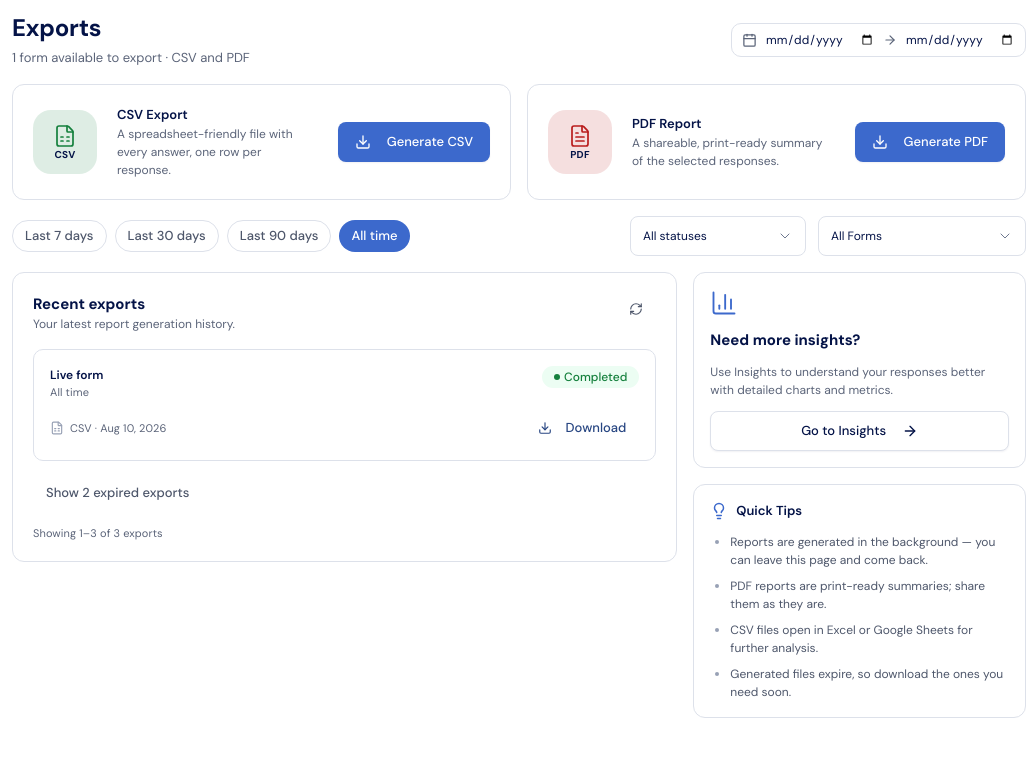
expired exports › are hidden behind a toggle, and the live rows stay visible
This screenshot has width=1036, height=775.
Expected: the text "Old form one" is not shown
Click the button "Show 2 expired exports": [118, 493] box [33,477,202,509]
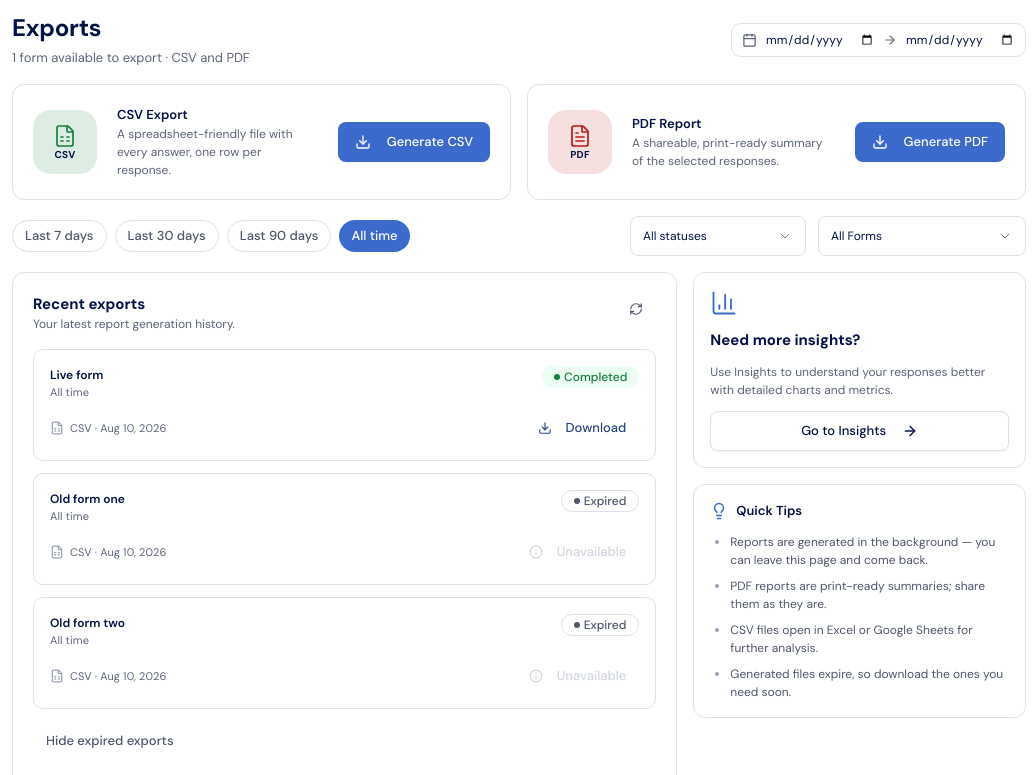
Expected: the button "Hide expired exports" is shown, [33,725,186,757]
